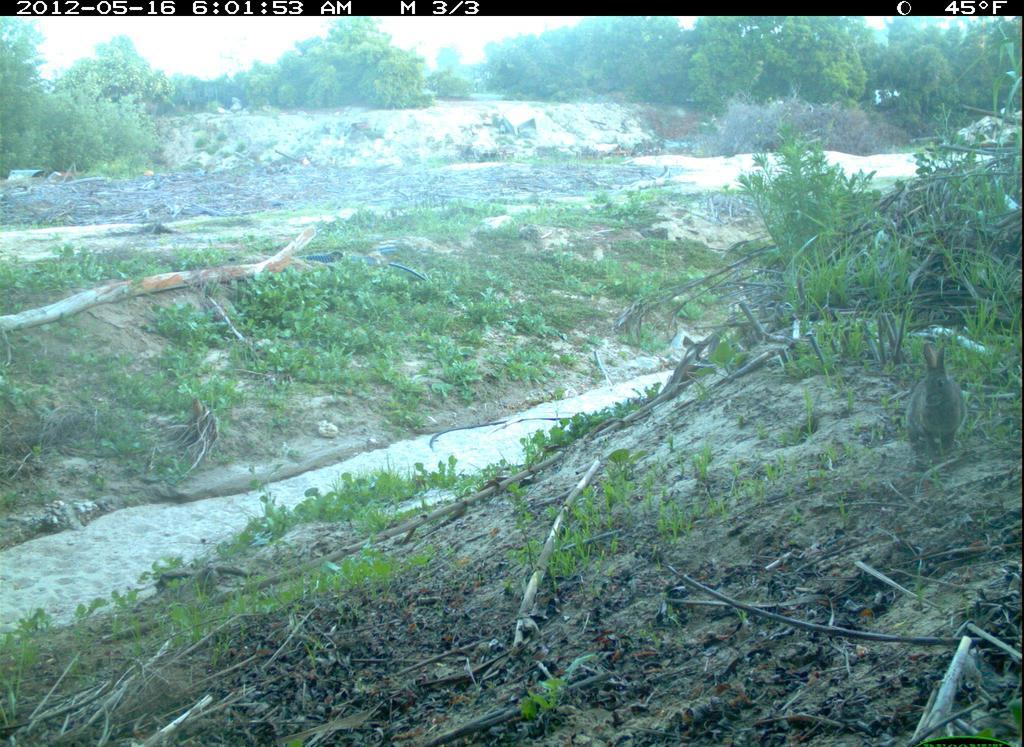rabbit: (902, 338, 975, 469)
